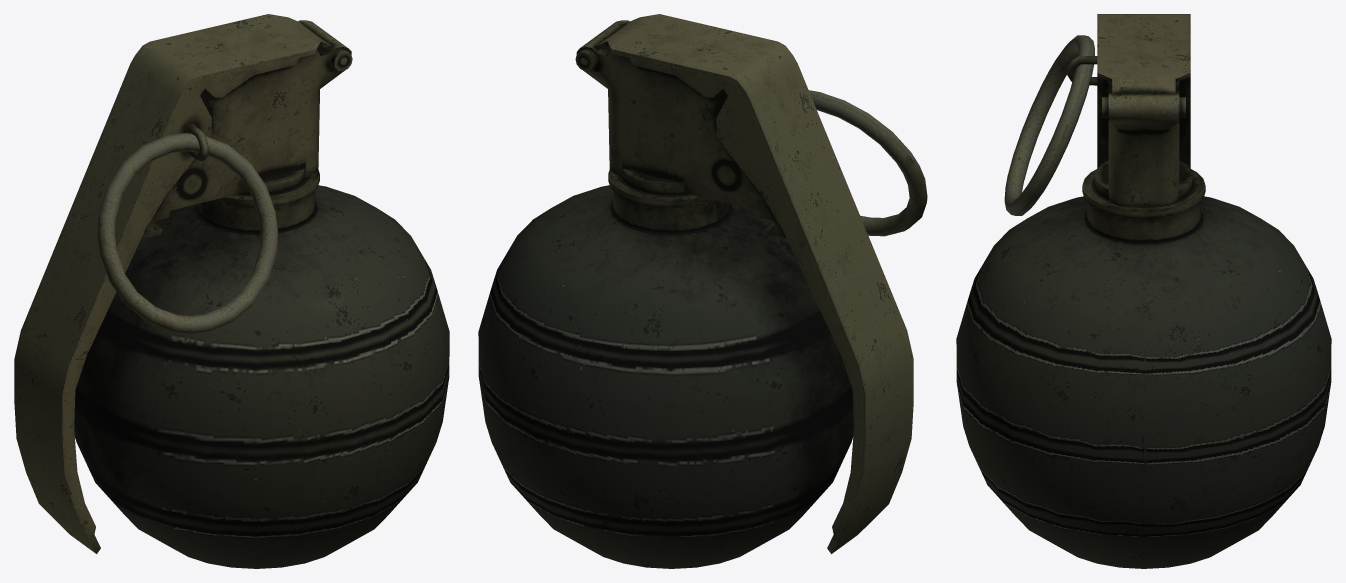
Rendered from grenade.fbx.
3 views of the same model, side by side, from view 1: azimuth 30°, elevation 25°; view 2: azimuth 150°, elevation 25°; view 3: azimuth 270°, elevation 25° (orthographic). The views are drawn at different scales.
Parts seen in each view (by area): view 1: grenade, ring; view 2: grenade, ring; view 3: grenade, ring.
Boxes of the visible parts, bbox=[...] form: grenade: bbox=[14, 14, 449, 568]; ring: bbox=[97, 133, 277, 334]; grenade: bbox=[478, 14, 913, 568]; ring: bbox=[808, 90, 927, 236]; grenade: bbox=[956, 14, 1331, 568]; ring: bbox=[1004, 35, 1094, 215].
Size of the model in its own units: 13.49 by 17.04 by 11.71.
